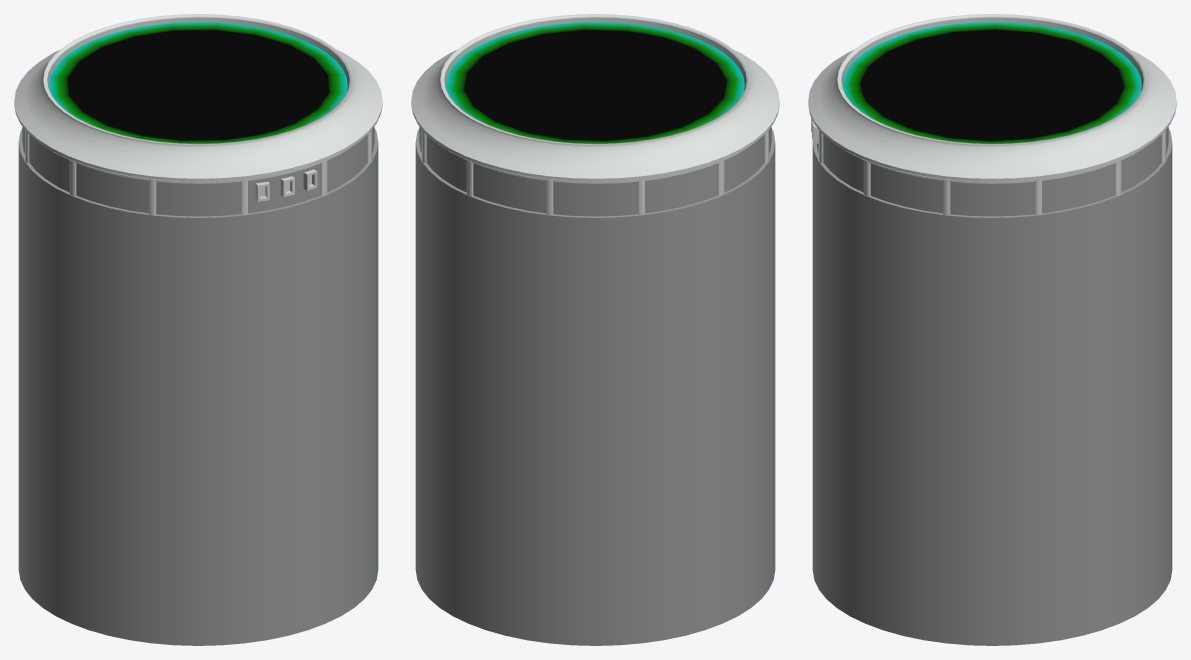
3 views of the same model, side by side, from view 1: azimuth 30°, elevation 25°; view 2: azimuth 150°, elevation 25°; view 3: azimuth 270°, elevation 25° (orthographic).
Parts seen in each view (by area): view 1: G:\FFXIV-MapTools\exports\e3f2\bg\ex2\02_est_e3\fld\e3f2\bgp (×7); view 2: G:\FFXIV-MapTools\exports\e3f2\bg\ex2\02_est_e3\fld\e3f2\bgp (×6); view 3: G:\FFXIV-MapTools\exports\e3f2\bg\ex2\02_est_e3\fld\e3f2\bgp (×6).
Boxes of the visible parts, x1,y1,x2,y2 form: G:\FFXIV-MapTools\exports\e3f2\bg\ex2\02_est_e3\fld\e3f2\bgp (×7): [14, 14, 382, 645]; G:\FFXIV-MapTools\exports\e3f2\bg\ex2\02_est_e3\fld\e3f2\bgp (×6): [411, 14, 779, 645]; G:\FFXIV-MapTools\exports\e3f2\bg\ex2\02_est_e3\fld\e3f2\bgp (×6): [808, 14, 1176, 645].
Bounding box in the file's own units: 138 × 203 × 138.
